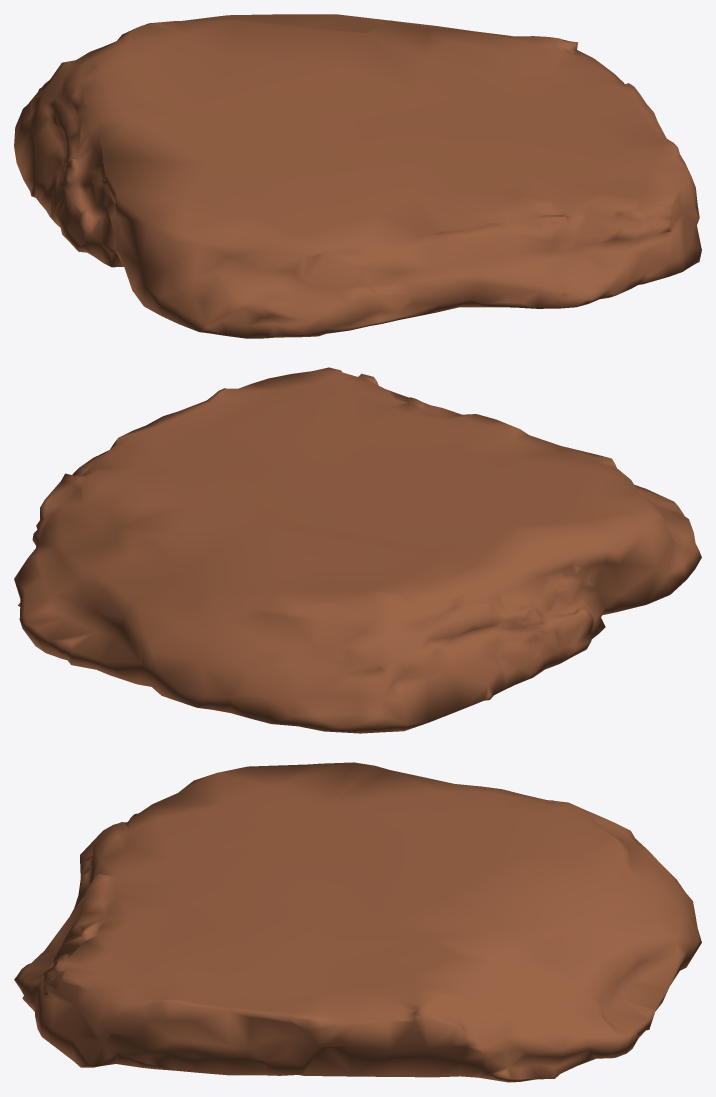
The model's file is Mesh_Plate_02_AW.FBX.
3 renders of one model, top to bottom at view 1: azimuth 30°, elevation 25°; view 2: azimuth 150°, elevation 25°; view 3: azimuth 270°, elevation 25°, orthographic. The views are drawn at different scales.
Parts seen in each view (by area): view 1: MESH_LOD0; view 2: MESH_LOD0; view 3: MESH_LOD0.
Boxes of the visible parts, box(x1,y1,x2,y2) form: MESH_LOD0: box(14, 14, 701, 338); MESH_LOD0: box(14, 367, 701, 733); MESH_LOD0: box(14, 762, 701, 1082).
Size of what is drawn, in the model's own units: 131 by 25.32 by 152.
